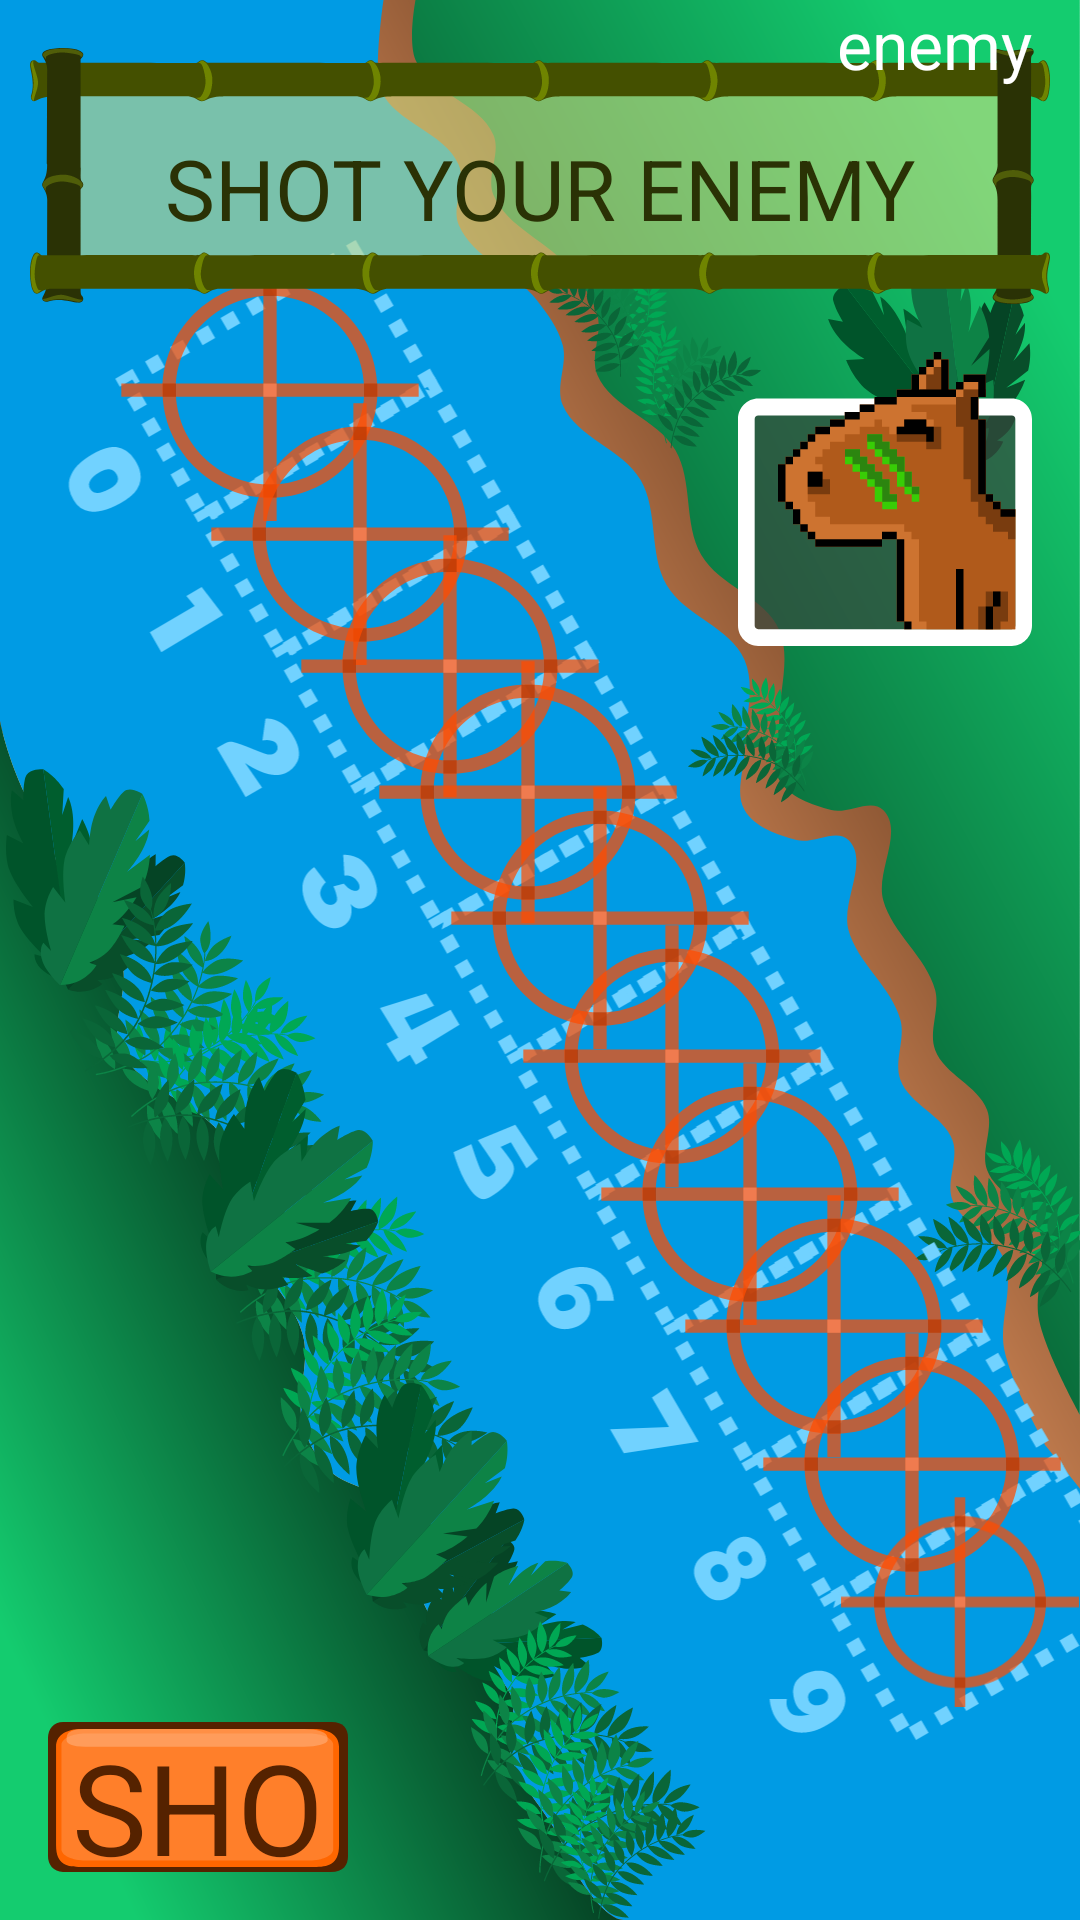

Named icons in this screenshot (1080w x 1920h) and their centers, (x=x, y=y):
capii player brown: (x=885, y=499)
